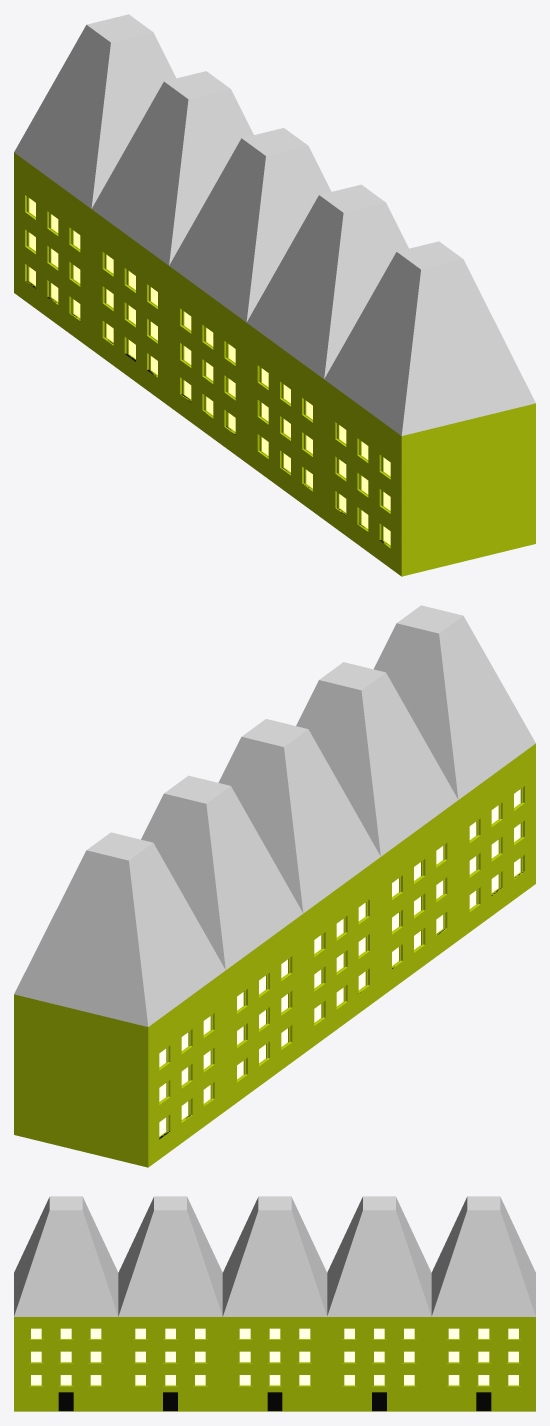
File: 3_storey_house_1(5).fbx
The picture shows the model from 3 angles, top to bottom: view 1: azimuth 30°, elevation 25°; view 2: azimuth 150°, elevation 25°; view 3: azimuth 270°, elevation 25°; orthographic projection. The views are drawn at different scales.
Parts seen in each view (by area): view 1: Cube; view 2: Cube; view 3: Cube.
Part boxes in pixels (x1,y1,x2,y2): Cube: (14, 14, 535, 576); Cube: (14, 605, 535, 1167); Cube: (14, 1196, 535, 1411).
Size of the model in its own units: 28 by 55.07 by 140.
